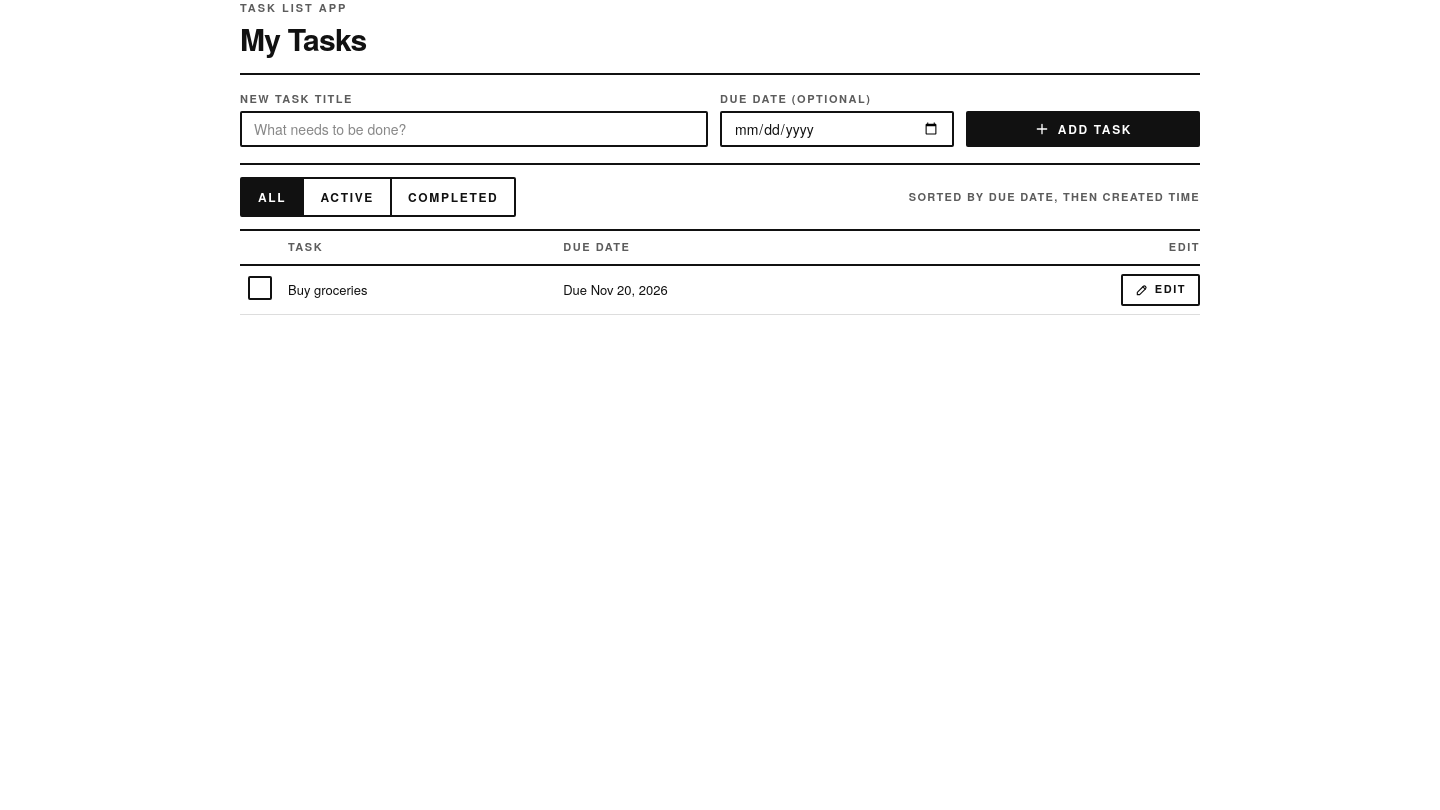
Test: Tasks screen › [handleSave] shows an error message when the API returns 400 for an empty title
Expected: the text "Buy groceries" is shown, [288,280,367,299]
Click the button named "Edit \"Buy groceries\"".
click(1160, 290)  # box [1121,274,1200,306]
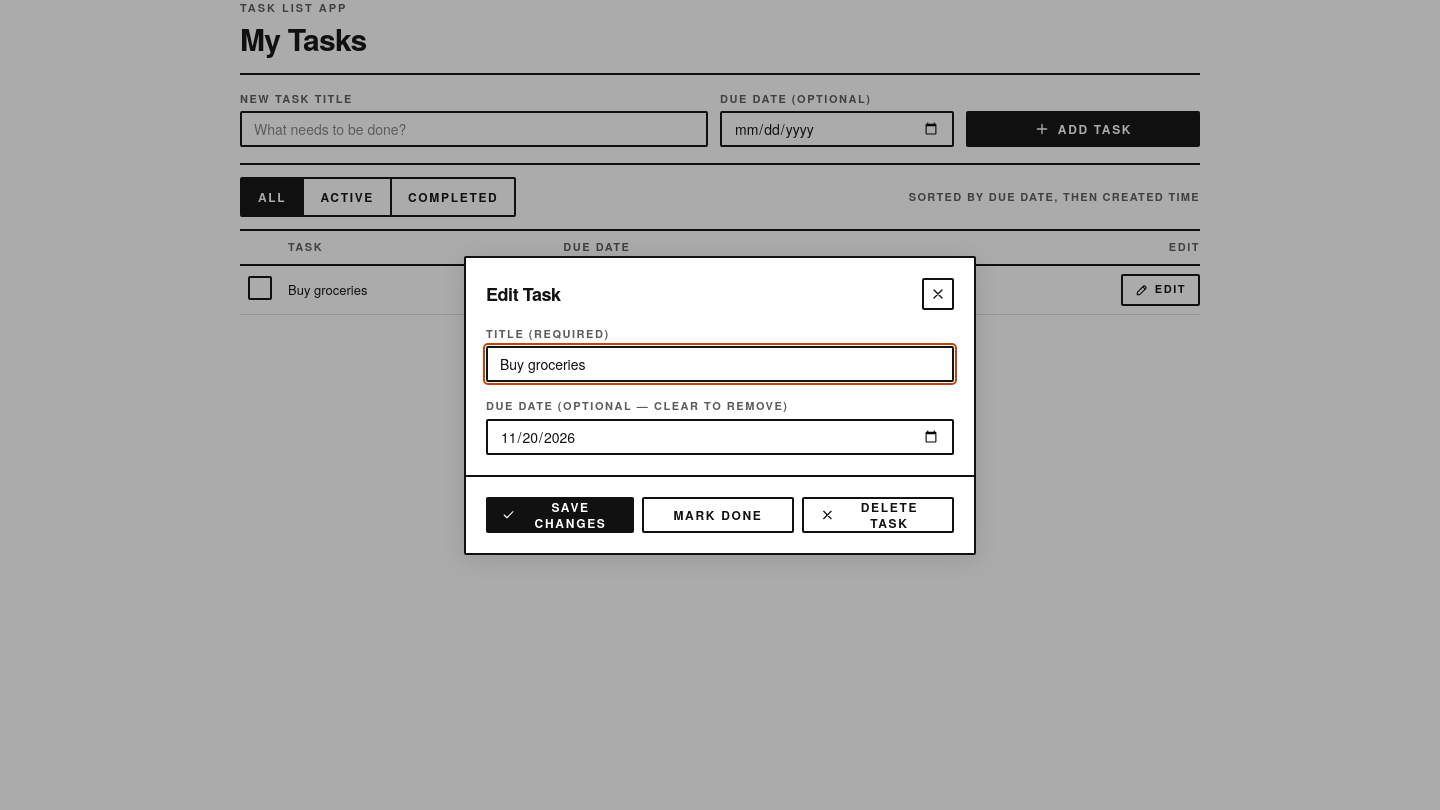
Clear the field labelled "Title (required)" at coordinates (720, 364), box [486,346,954,382]
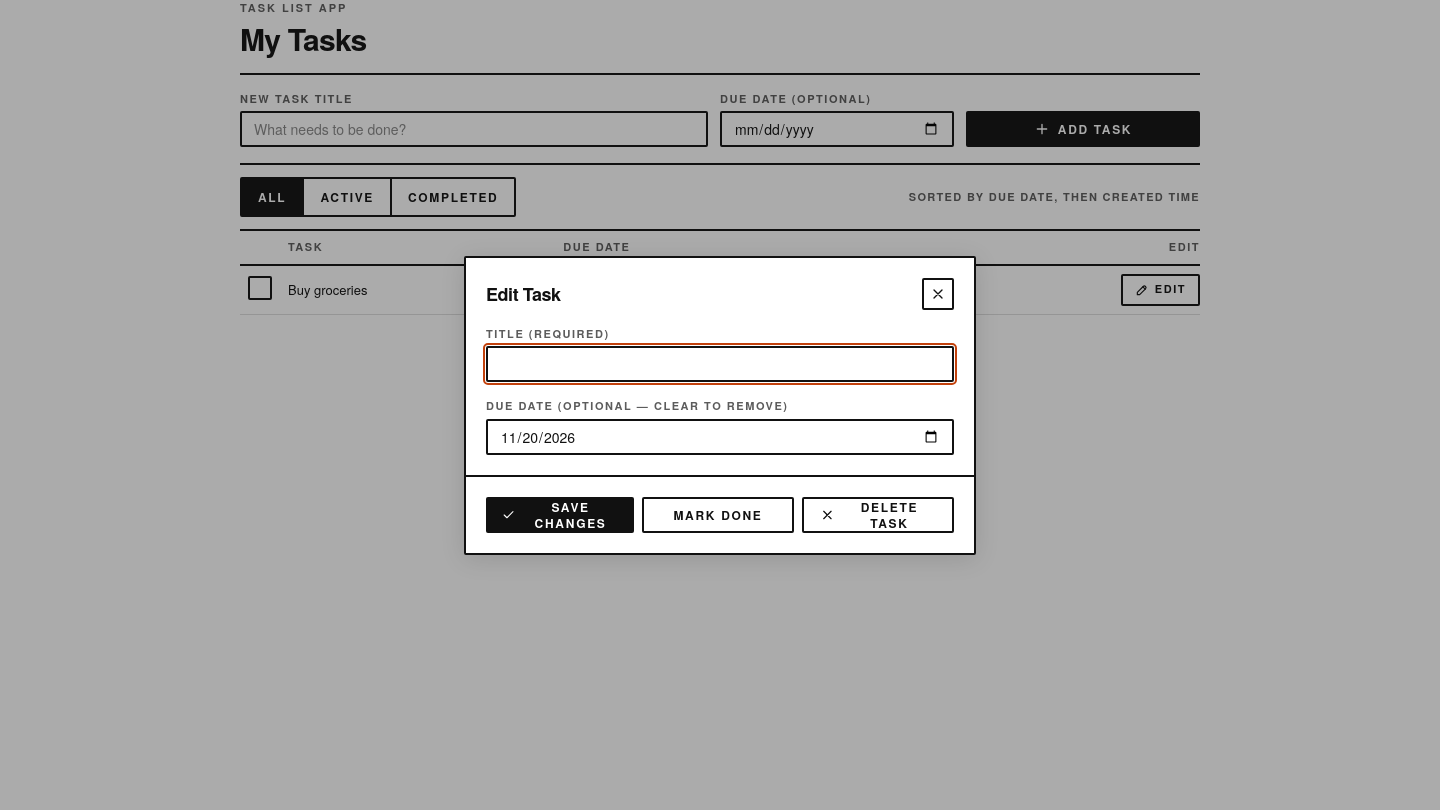
Click the button "Save Changes".
click(560, 514)  # box [486,496,634,532]
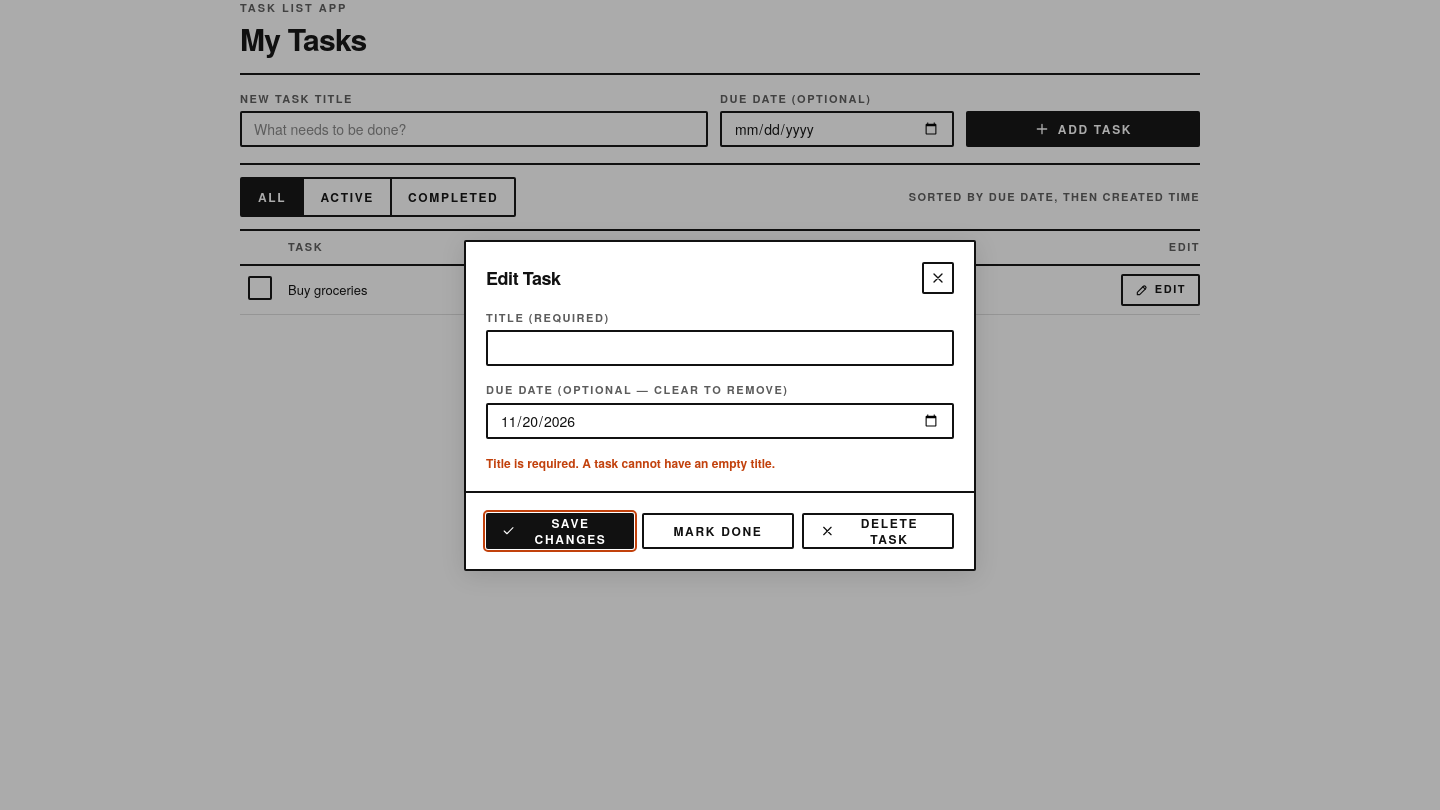
Now the text "Title is required. A task cannot have an empty title." is shown, box [486,454,775,472]
